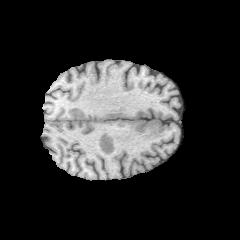glioma: (99, 96, 165, 155)
